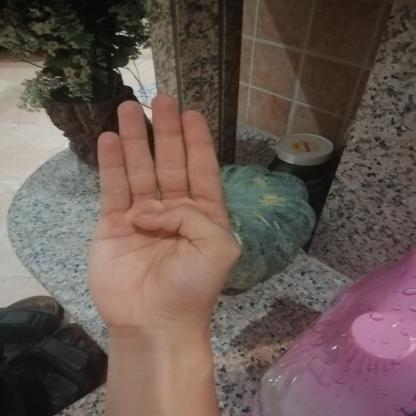KAAF: (70, 80, 255, 352)
